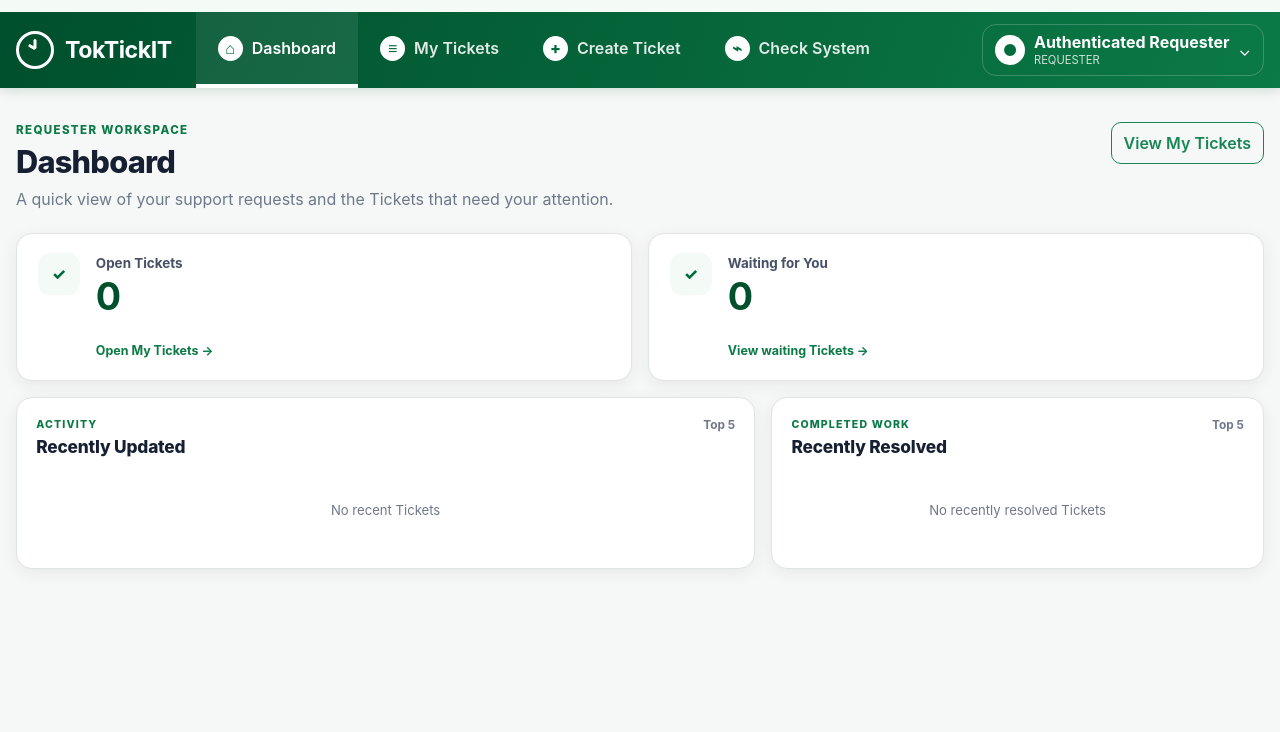
Lab 3 authenticated application shell › Logout invalidates client access and returns to Login
Step 1. Click the heading named "User menu for Authenticated Requester" → [1123, 50], box [982,24,1264,76]
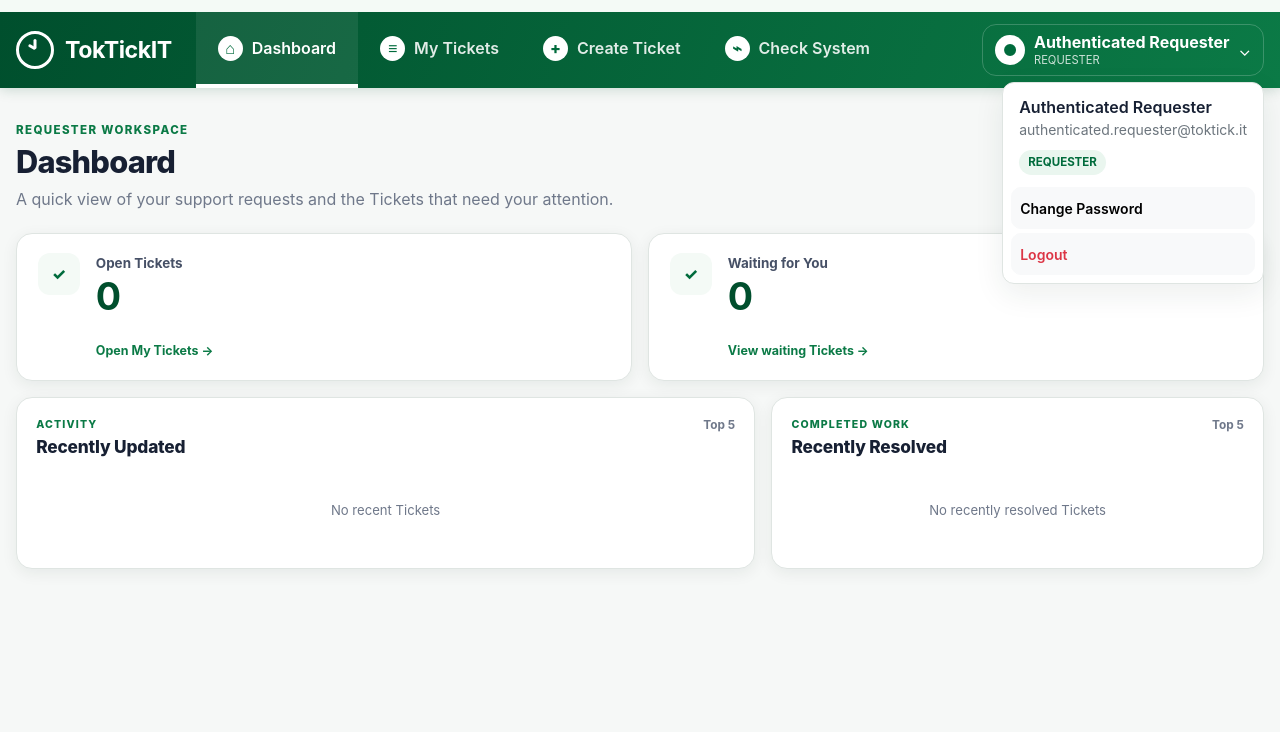
Step 2. Click the button "Logout" → [1133, 254], box [1011,233,1255,275]
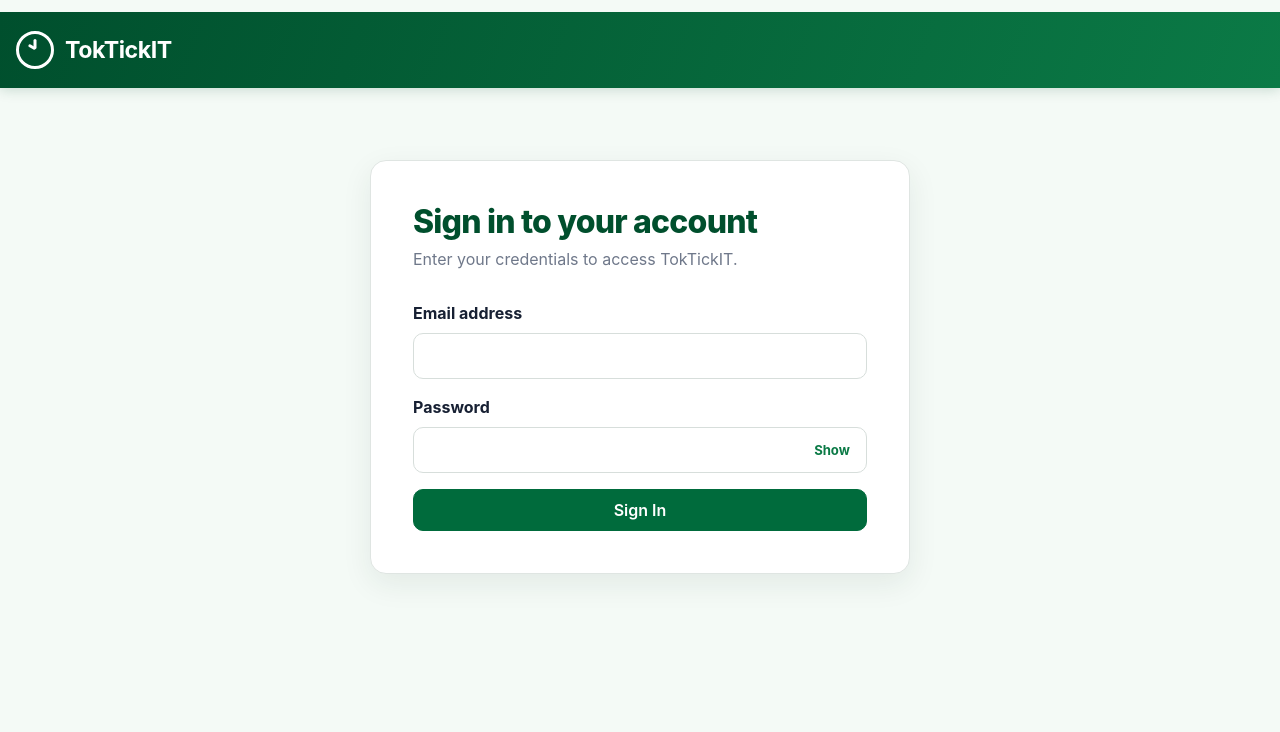
Now the heading "Sign in to your account" is shown, box [413,202,757,241]
